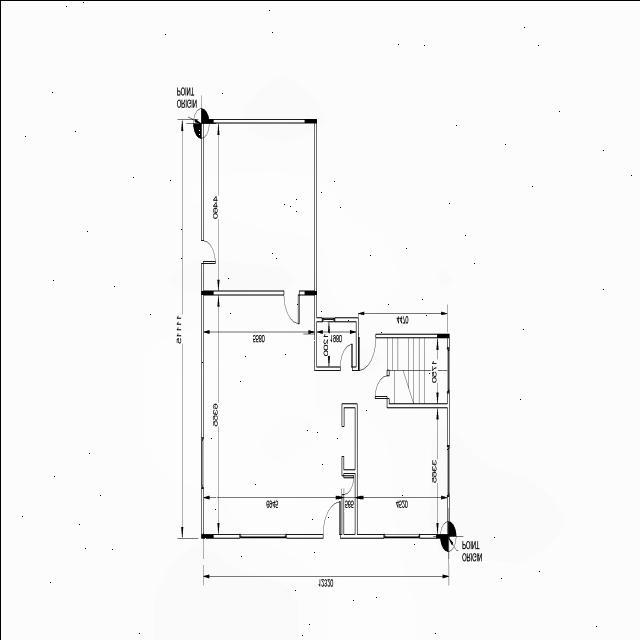Column: (200, 534, 212, 538), (436, 534, 448, 538), (436, 333, 448, 337), (304, 118, 316, 122), (304, 290, 316, 294), (202, 290, 212, 294), (200, 119, 212, 122), (200, 290, 202, 294)
Door: (356, 331, 376, 372), (321, 500, 340, 540), (282, 288, 299, 324), (199, 238, 215, 264), (338, 342, 352, 371), (374, 374, 388, 399), (340, 473, 353, 495)
Staircase: (391, 335, 446, 404)
Window: (238, 532, 286, 538), (382, 532, 420, 538), (445, 346, 449, 394), (446, 443, 449, 497), (200, 436, 203, 490), (320, 315, 334, 322)
